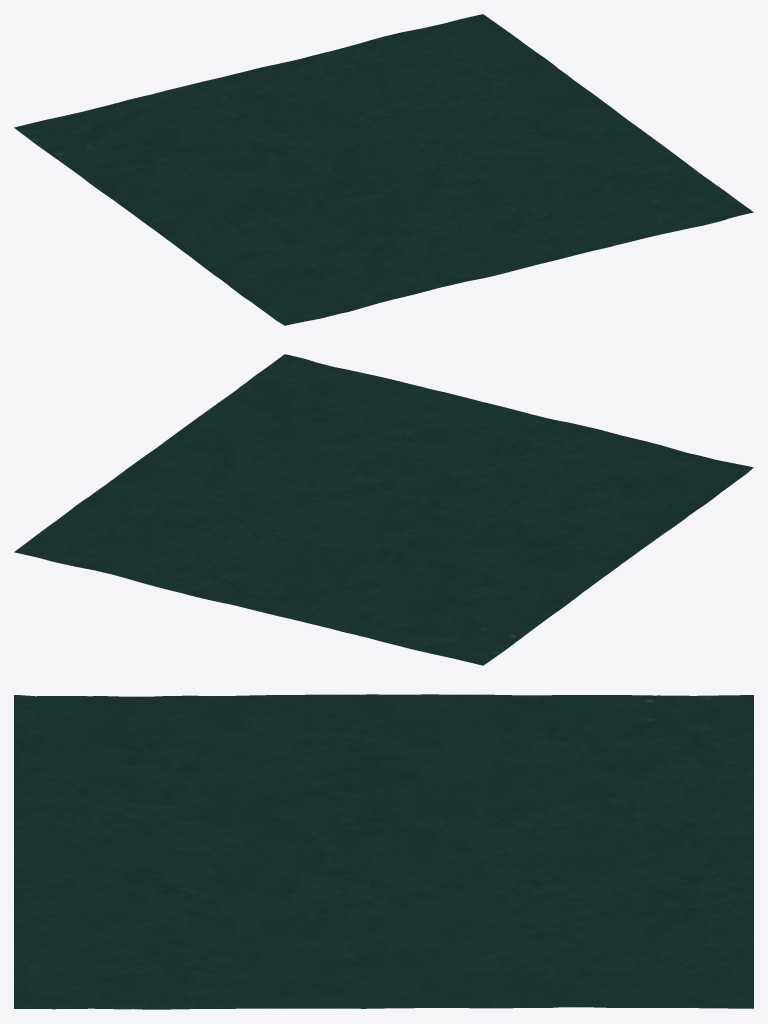
3 renders of one model, top to bottom at view 1: azimuth 30°, elevation 25°; view 2: azimuth 150°, elevation 25°; view 3: azimuth 270°, elevation 25°, orthographic. The views are drawn at different scales.
Bounding box in the file's own units: 104 × 0.7667 × 104.
Materials: 2 (2 with a texture image).
